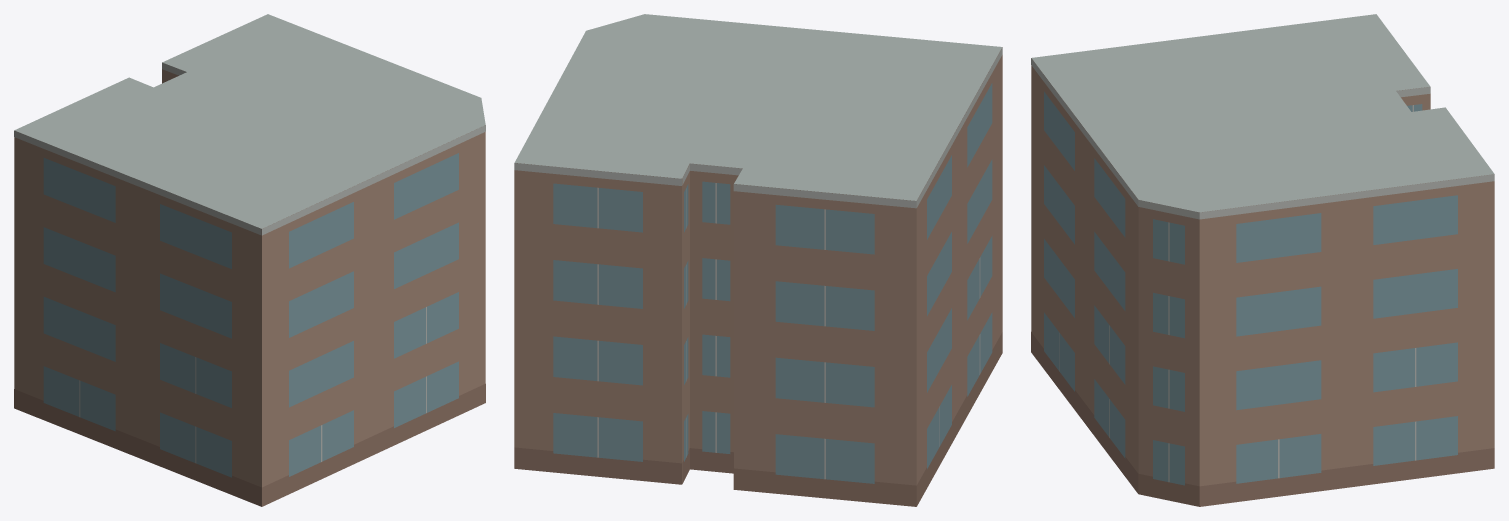
Rendered from survey-upis-32845027.glb.
3 renders of one model, left to right at view 1: azimuth 30°, elevation 25°; view 2: azimuth 150°, elevation 25°; view 3: azimuth 270°, elevation 25°, orthographic. The views are drawn at different scales.
Parts seen in each view (by area): view 1: survey-upis-32845027.tmp; view 2: survey-upis-32845027.tmp; view 3: survey-upis-32845027.tmp.
Boxes of the visible parts, x1,y1,x2,y2 form: survey-upis-32845027.tmp: (14, 14, 485, 506); survey-upis-32845027.tmp: (514, 14, 1002, 506); survey-upis-32845027.tmp: (1031, 14, 1494, 506).
Bounding box in the file's own units: 14.68 × 10.15 × 14.49.
